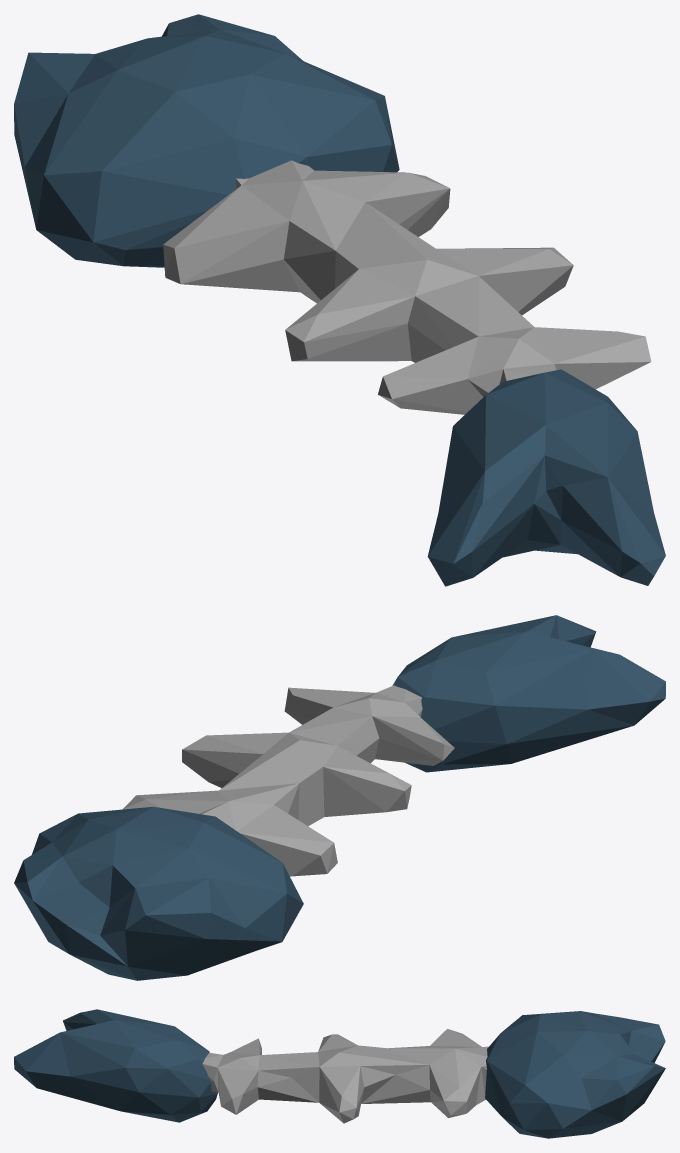
Rendered from Fish.fbx.
The picture shows the model from 3 angles, top to bottom: view 1: azimuth 30°, elevation 25°; view 2: azimuth 150°, elevation 25°; view 3: azimuth 270°, elevation 25°; orthographic projection. The views are drawn at different scales.
Visible parts, largest first — view 1: Sphere; view 2: Sphere; view 3: Sphere.
Part boxes in pixels (x1,y1,x2,y2): Sphere: [14, 14, 665, 586]; Sphere: [14, 615, 665, 980]; Sphere: [14, 1009, 665, 1138].
Size of the model in its own units: 689 by 317 by 1851.
